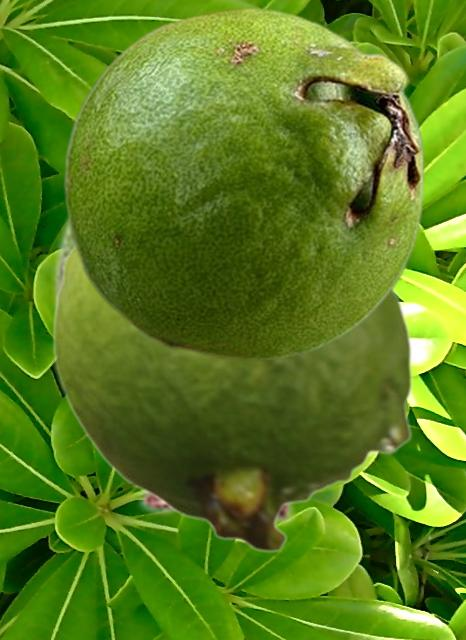guava: (63, 7, 424, 361), (51, 242, 412, 552), (51, 209, 301, 532)
